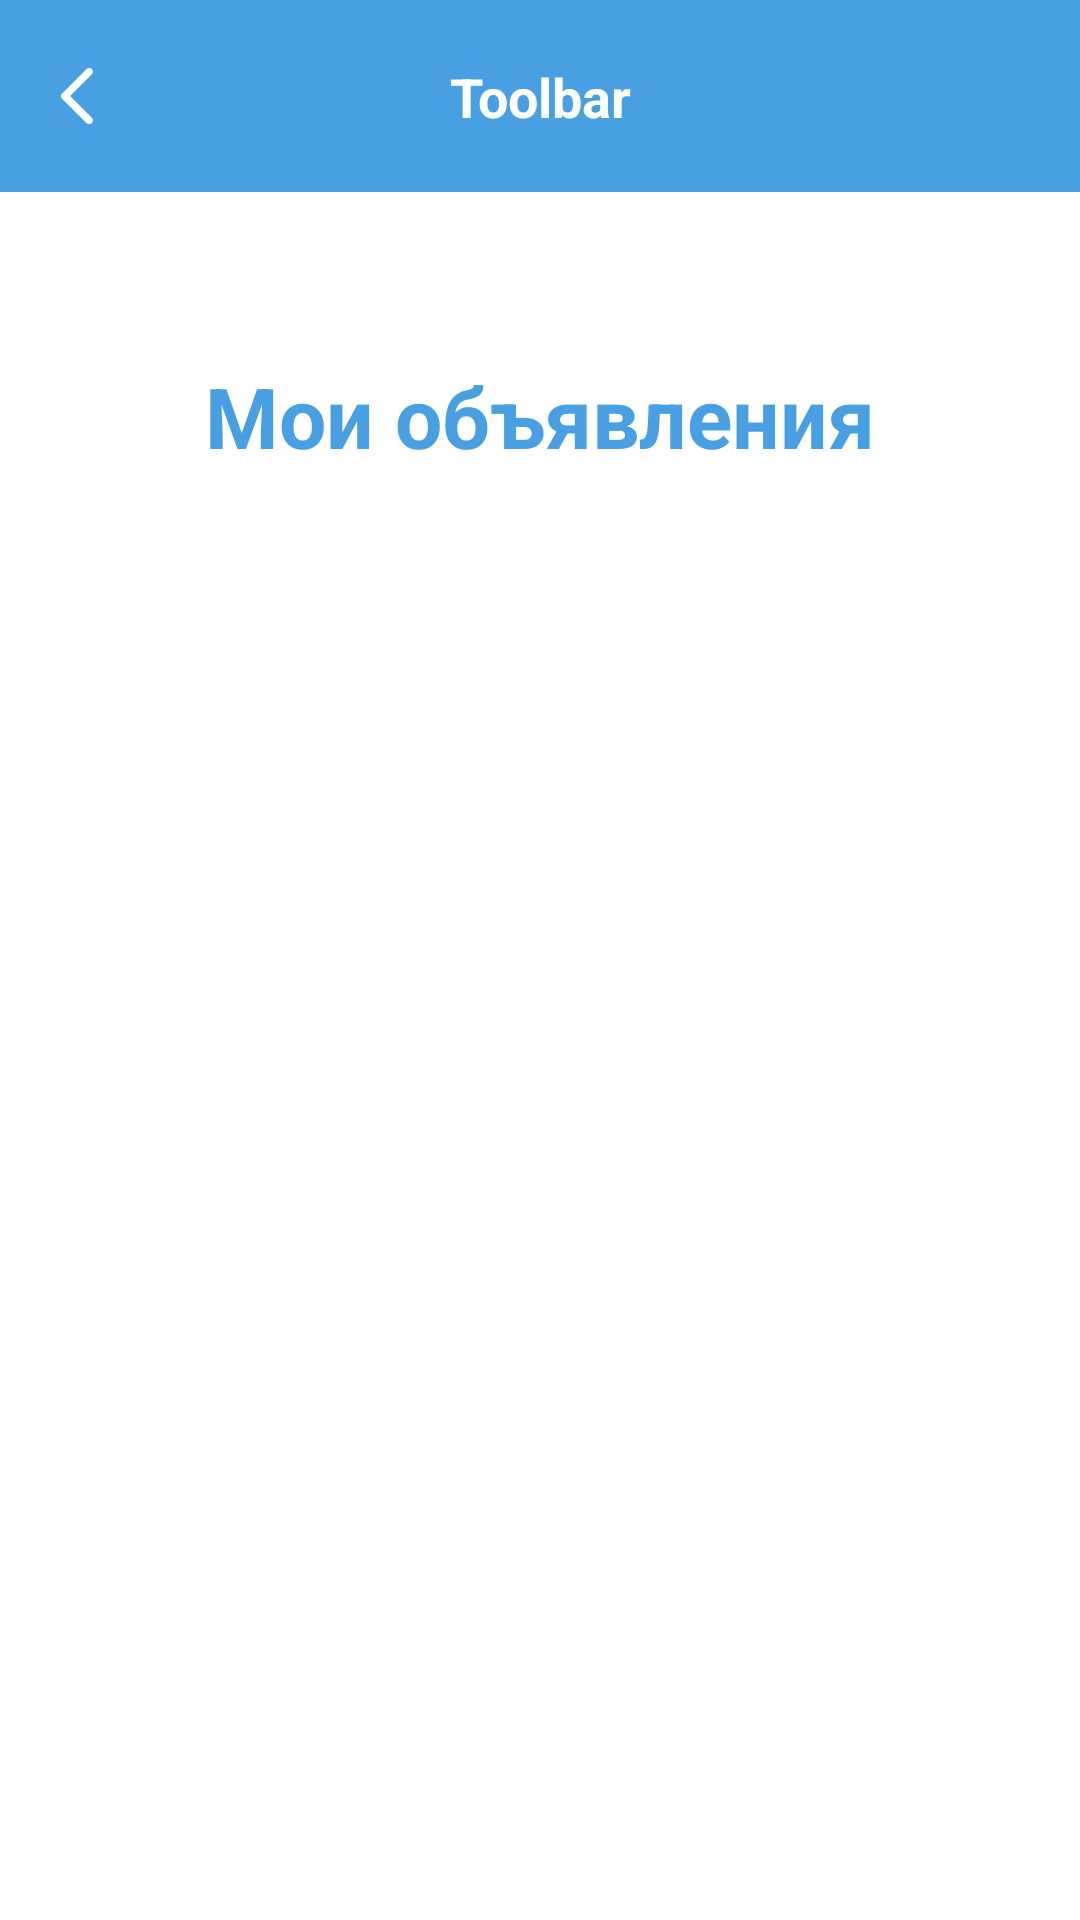

Named icons in this screenshot (1080px×1920px) and their bounding boxes, [x1, y1, x2, y2]:
back: [60, 68, 93, 124]
